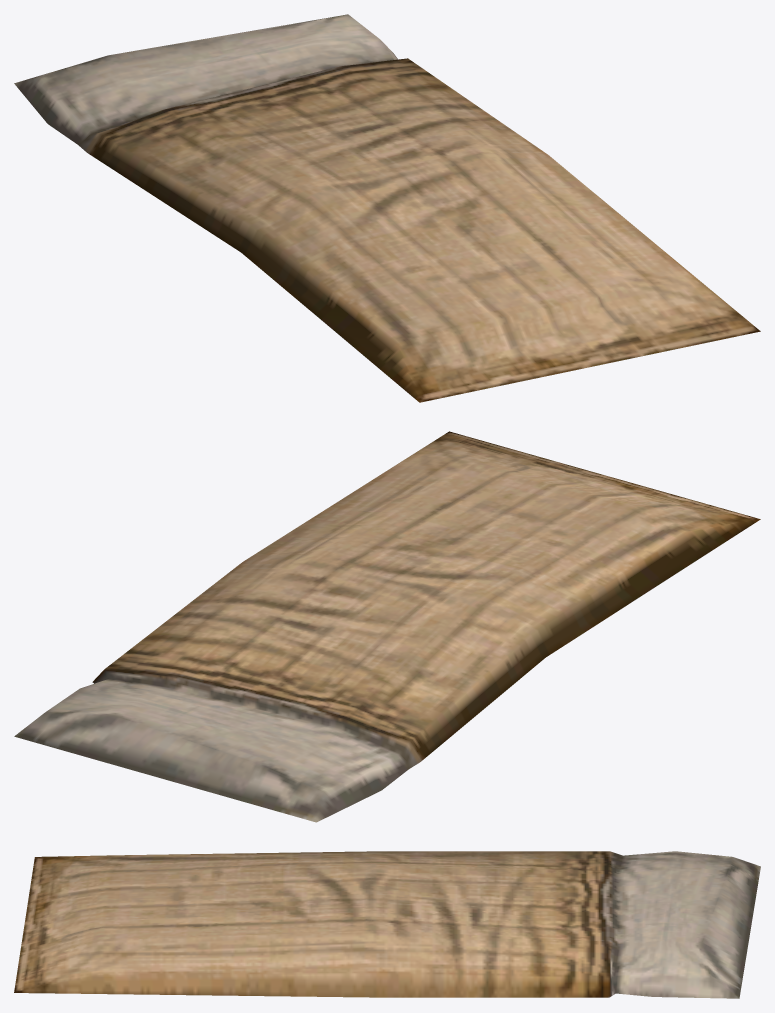
The model's file is M5B_Bedroll02.glb.
3 views of the same model, one above another, from view 1: azimuth 30°, elevation 25°; view 2: azimuth 150°, elevation 25°; view 3: azimuth 270°, elevation 25° (orthographic). The views are drawn at different scales.
Visible parts, largest first — view 1: M5B_BEDROLL02; view 2: M5B_BEDROLL02; view 3: M5B_BEDROLL02.
Part boxes in pixels (x1=…): M5B_BEDROLL02: x1=14, y1=14, x2=760, y2=402; M5B_BEDROLL02: x1=14, y1=431, x2=760, y2=822; M5B_BEDROLL02: x1=14, y1=851, x2=760, y2=998.
Size of the model in its own units: 1.03 by 0.11 by 2.29.
1 material, 1 textured.
